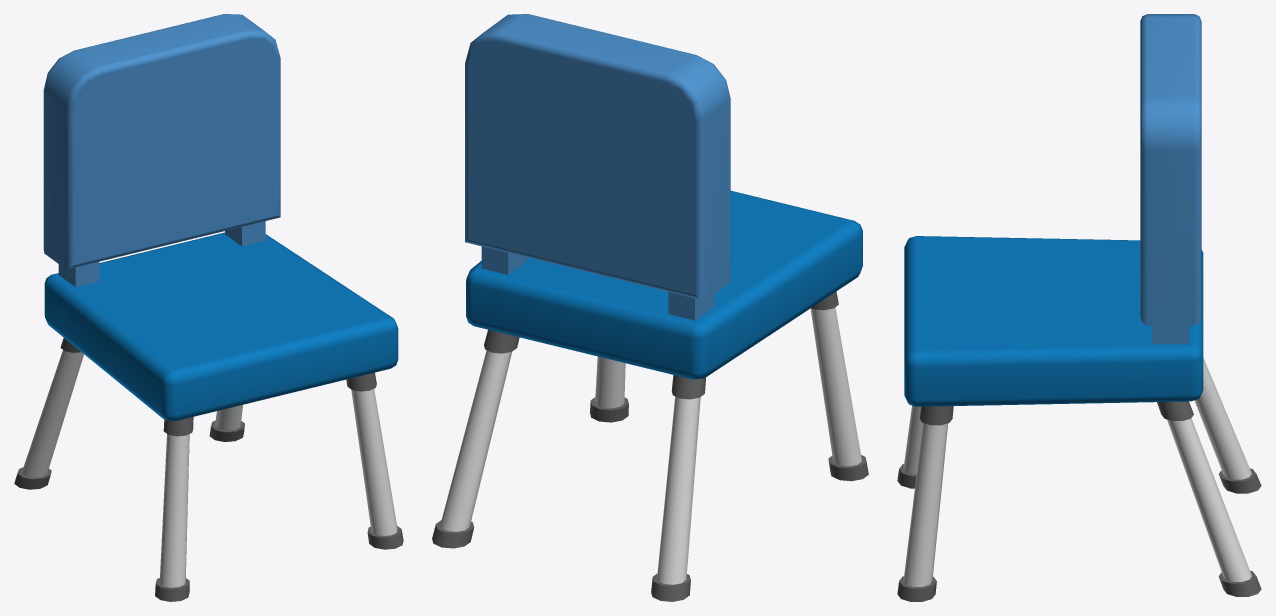
The model's file is Mixed_Chair_01.fbx.
3 views of the same model, side by side, from view 1: azimuth 30°, elevation 25°; view 2: azimuth 150°, elevation 25°; view 3: azimuth 270°, elevation 25° (orthographic). The views are drawn at different scales.
Visible parts, largest first — view 1: Mixed_Chair_01; view 2: Mixed_Chair_01; view 3: Mixed_Chair_01.
Boxes of the visible parts, left/top/right/bottom form: Mixed_Chair_01: left=14, top=14, right=403, bottom=601; Mixed_Chair_01: left=432, top=14, right=868, bottom=601; Mixed_Chair_01: left=897, top=14, right=1261, bottom=601.
Size of the model in its own units: 72.99 by 127 by 87.21.
